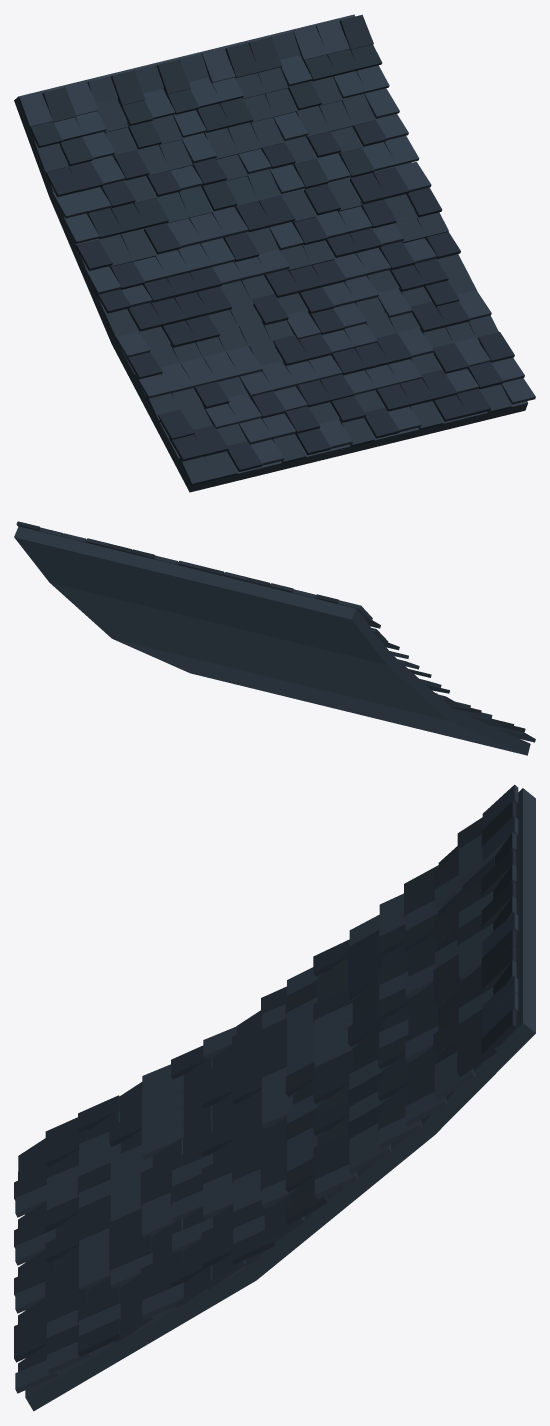
Rendered from Roof_Tile02_JP.fbx.
3 views of the same model, one above another, from view 1: azimuth 30°, elevation 25°; view 2: azimuth 150°, elevation 25°; view 3: azimuth 270°, elevation 25° (orthographic). The views are drawn at different scales.
Visible parts, largest first — view 1: Roof_Tile02_JP_LOD0; view 2: Roof_Tile02_JP_LOD0; view 3: Roof_Tile02_JP_LOD0.
Part boxes in pixels (left/top/right/bottom): Roof_Tile02_JP_LOD0: left=14, top=14, right=535, bottom=492; Roof_Tile02_JP_LOD0: left=14, top=521, right=535, bottom=755; Roof_Tile02_JP_LOD0: left=14, top=784, right=535, bottom=1411.
Size of what is drawn, in the model's own units: 650 by 493 by 597.
